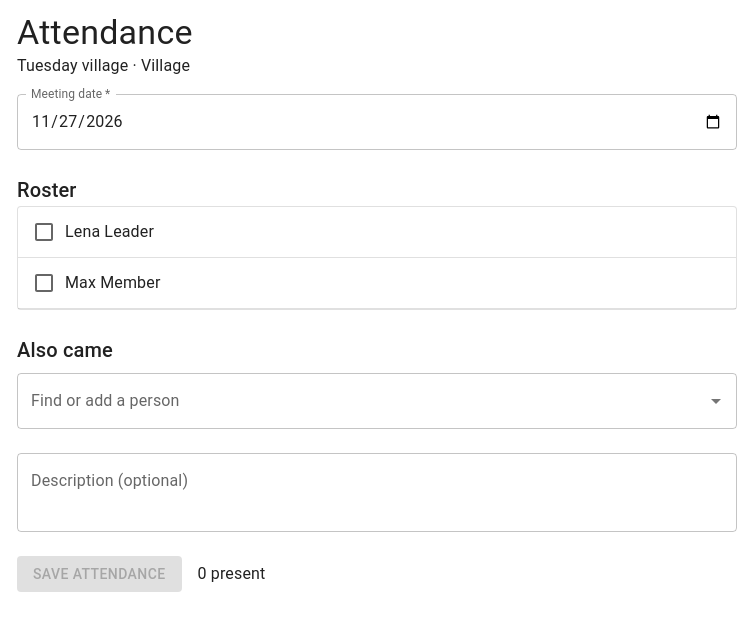
Test case: TakeAttendance › TakeAttendance_SearchFails_SaysSoInsteadOfOnlyOfferingToCreate
The image size is (755, 632).
Type "Zo" into the dropdown labelled "Find or add a person" at (362, 401), box [26, 382, 698, 420]
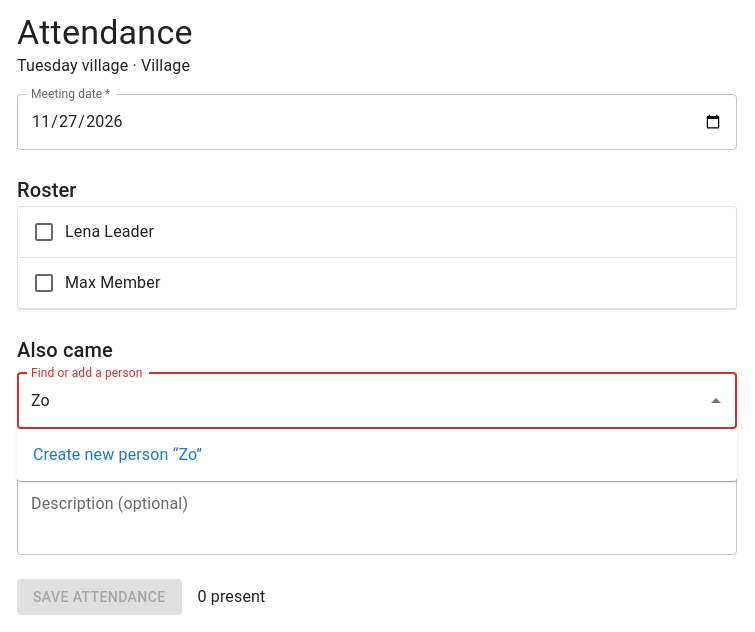
Expected: the text "Search failed: Too many requests." is shown, [31, 434, 224, 448]
